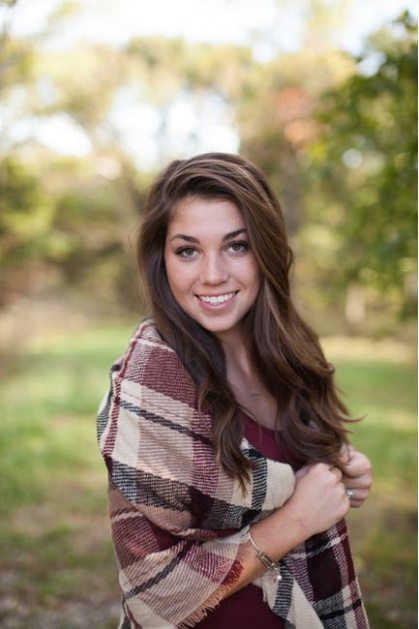face: (166, 198, 259, 335)
